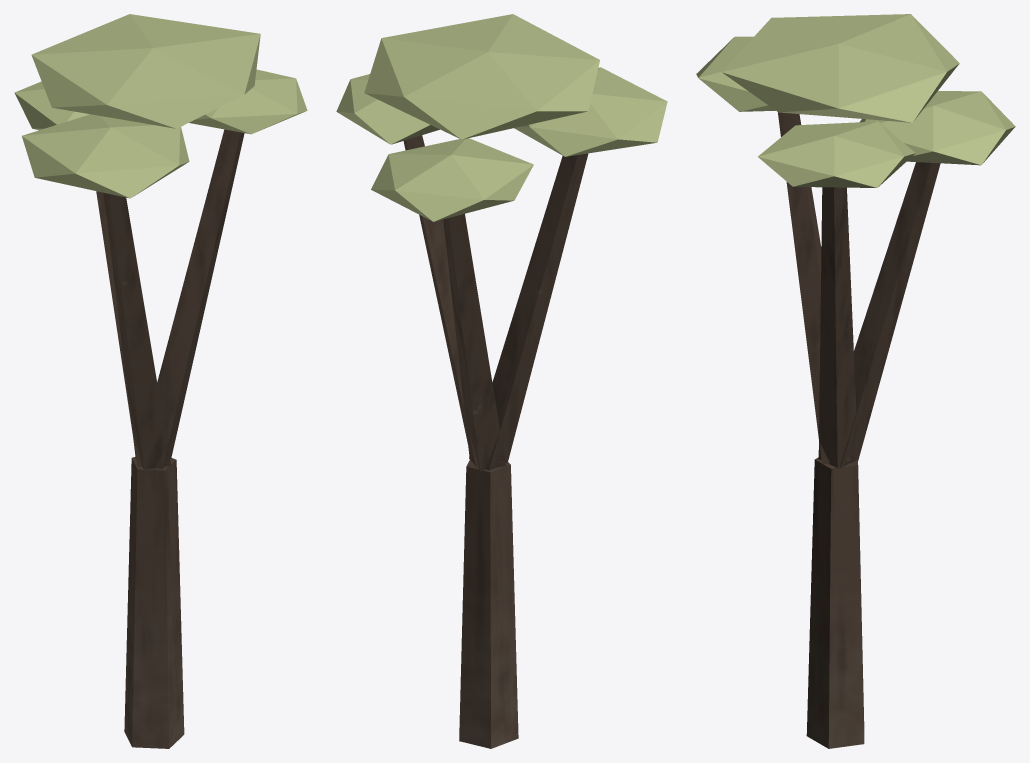
The model's file is arv_acacia_5.glb.
3 renders of one model, left to right at view 1: azimuth 30°, elevation 25°; view 2: azimuth 150°, elevation 25°; view 3: azimuth 270°, elevation 25°, orthographic.
Visible parts, largest first — view 1: arv_acacia_5; view 2: arv_acacia_5; view 3: arv_acacia_5.
Boxes of the visible parts, x1,y1,x2,y2 form: arv_acacia_5: [14, 14, 307, 748]; arv_acacia_5: [336, 14, 667, 748]; arv_acacia_5: [696, 14, 1015, 748].
Size of the model in its own units: 0.8327 by 1.92 by 0.8034.
2 materials, 1 textured.
